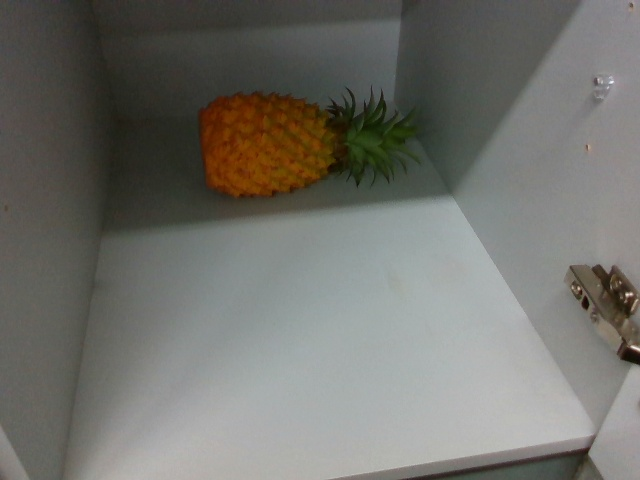pineapple: (199, 81, 431, 197)
